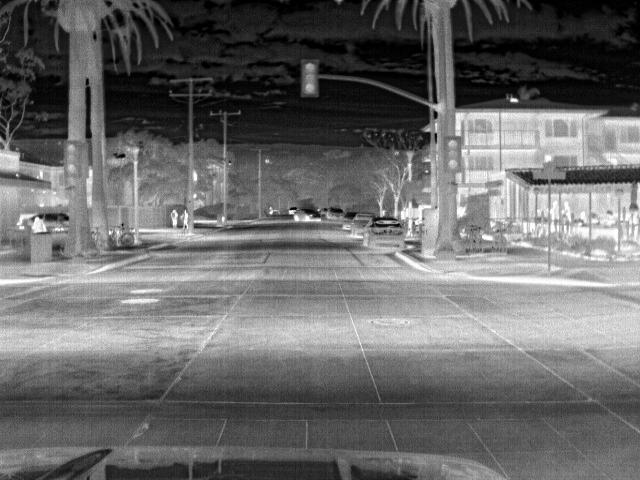car: (364, 218, 404, 250), (22, 211, 70, 229), (352, 211, 382, 239), (290, 206, 319, 222), (340, 211, 359, 230), (325, 206, 343, 220)
person: (29, 215, 48, 234), (168, 206, 181, 229)
